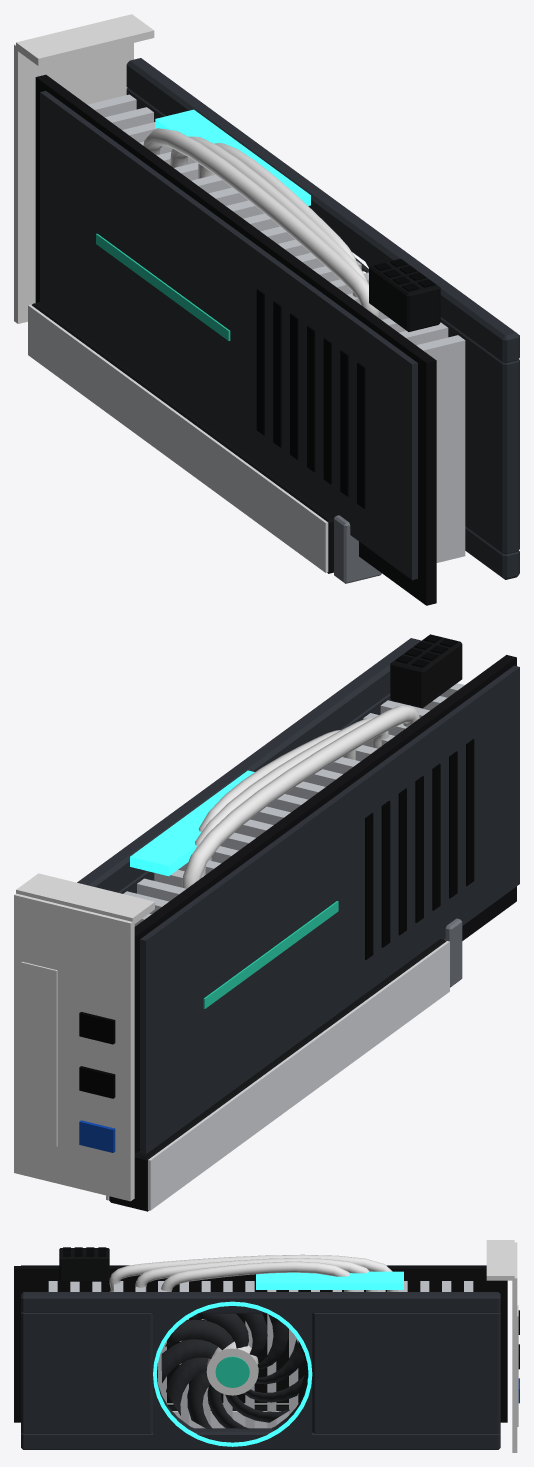
The model's file is hwm_gpu_gtx1660ti.glb.
3 renders of one model, top to bottom at view 1: azimuth 30°, elevation 25°; view 2: azimuth 150°, elevation 25°; view 3: azimuth 270°, elevation 25°, orthographic. The views are drawn at different scales.
Parts seen in each view (by area): view 1: Card_0, Slot_0; view 2: Card_0, Slot_0; view 3: Card_0, Rotor_X_0, Slot_0.
Boxes of the visible parts, x1,y1,x2,y2 form: Card_0: (14, 14, 519, 605); Slot_0: (28, 302, 381, 583); Card_0: (14, 634, 519, 1201); Slot_0: (106, 918, 462, 1211); Card_0: (14, 1240, 519, 1452); Rotor_X_0: (161, 1313, 304, 1429); Slot_0: (167, 1404, 288, 1428).
Size of the model in its own units: 0.0375 by 0.0916 by 0.2152.
